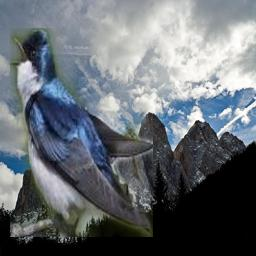Swallow: (10, 28, 153, 237)
